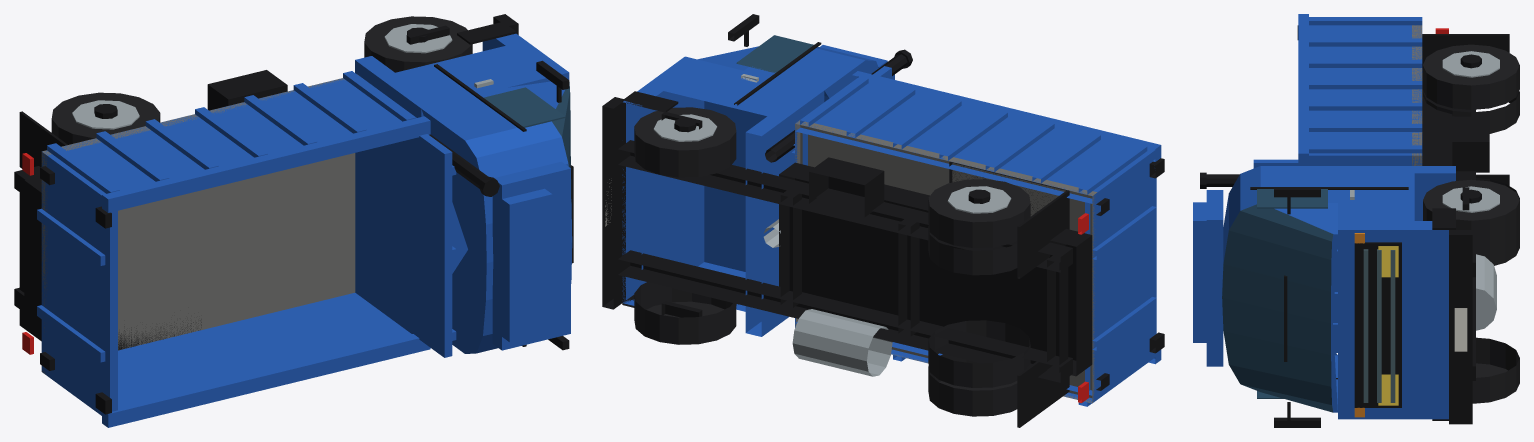
File: empty.glb
3 renders of one model, left to right at view 1: azimuth 30°, elevation 25°; view 2: azimuth 150°, elevation 25°; view 3: azimuth 270°, elevation 25°, orthographic. The views are drawn at different scales.
Visible parts, largest first — view 1: empty_bed, empty_cab_upper, empty_air_dam_top, empty_headboard, empty_air_dam, empty_cab_arch, empty_front1, empty_rear_out1, empty_subframe, empty_cab_back, empty_battery_box, empty_side_window1 (+5 smaller); view 2: empty_bed, empty_subframe, empty_cab_arch, empty_chassis-1, empty_chassis1, empty_cab_back, empty_front1, empty_cab_front, empty_rear_out1, empty_fuel_tank, empty_bumper, empty_front-1 (+13 smaller); view 3: empty_cab_upper, empty_bed, empty_cab_front, empty_rear_out1, empty_grille, empty_front1, empty_bumper, empty_cab_arch, empty_air_dam, empty_front-1, empty_battery_box, empty_air_dam_top (+21 smaller).
Part boxes in pixels (box(x1,y1,x2,y2)): empty_bed: box(37, 71, 430, 427); empty_cab_upper: box(421, 81, 572, 353); empty_air_dam_top: box(502, 188, 552, 342); empty_headboard: box(418, 134, 452, 357); empty_air_dam: box(492, 161, 570, 350); empty_cab_arch: box(395, 46, 548, 273); empty_front1: box(364, 16, 472, 72); empty_rear_out1: box(51, 92, 160, 144); empty_subframe: box(24, 176, 41, 330); empty_cab_back: box(355, 56, 437, 117); empty_battery_box: box(207, 70, 287, 110); empty_side_window1: box(484, 87, 565, 127); empty_bed: box(795, 71, 1161, 406); empty_subframe: box(779, 162, 1092, 376); empty_cab_arch: box(663, 61, 807, 311); empty_chassis-1: box(618, 250, 1072, 382); empty_chassis1: box(618, 140, 1072, 272); empty_cab_back: box(745, 86, 824, 336); empty_front1: box(634, 107, 736, 177); empty_cab_front: box(622, 56, 704, 305); empty_rear_out1: box(928, 179, 1030, 247); empty_fuel_tank: box(792, 309, 892, 376); empty_bumper: box(602, 97, 625, 309); empty_front-1: box(634, 282, 736, 344); empty_cab_upper: box(1222, 166, 1337, 412); empty_bed: box(1298, 14, 1422, 352); empty_cab_front: box(1338, 221, 1448, 419); empty_rear_out1: box(1423, 44, 1519, 109); empty_grille: box(1354, 242, 1401, 407); empty_front1: box(1423, 179, 1519, 246); empty_bumper: box(1449, 230, 1472, 424); empty_cab_arch: box(1338, 173, 1414, 220); empty_air_dam: box(1206, 190, 1223, 366); empty_front-1: box(1472, 337, 1519, 403); empty_battery_box: box(1452, 116, 1489, 172); empty_air_dam_top: box(1193, 202, 1206, 342).
Size of the model in its own units: 7.6 by 3.9 by 4.85.
